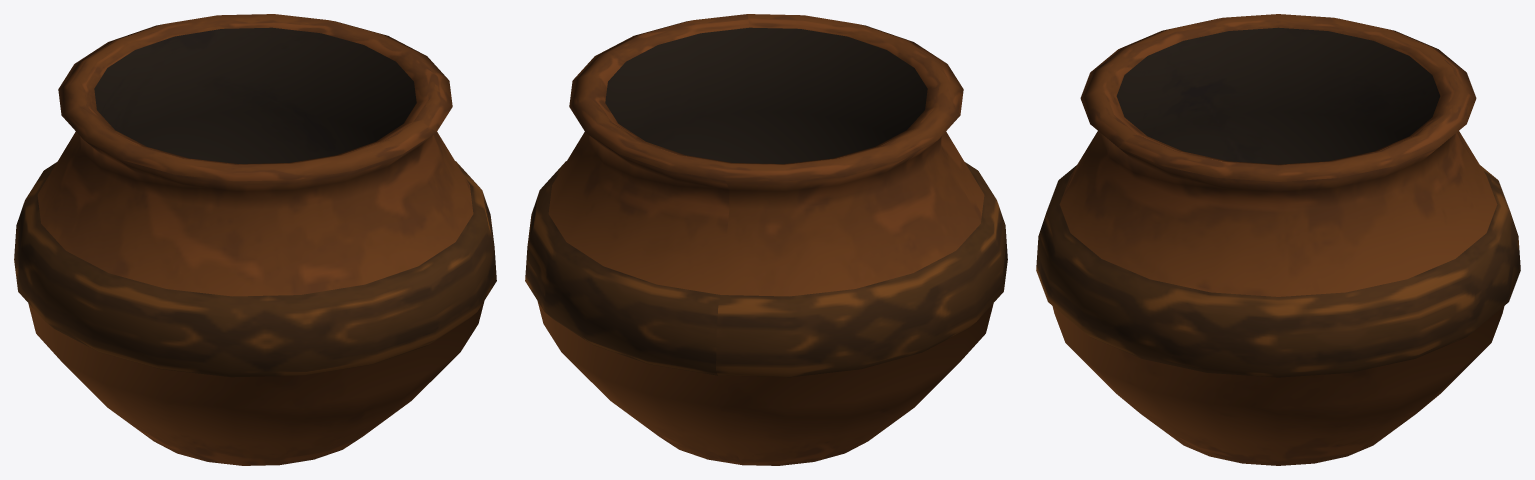
File: vase_2.gltf
The picture shows the model from 3 angles, left to right: view 1: azimuth 30°, elevation 25°; view 2: azimuth 150°, elevation 25°; view 3: azimuth 270°, elevation 25°; orthographic projection.
Visible parts, largest first — view 1: Vase_2; view 2: Vase_2; view 3: Vase_2.
Boxes of the visible parts, box(x1,y1,x2,y2) form: Vase_2: box(14, 14, 496, 465); Vase_2: box(525, 14, 1007, 465); Vase_2: box(1036, 14, 1520, 465).
Bounding box in the file's own units: 0.6947 × 0.5163 × 0.6947.
1 material, 1 textured.
